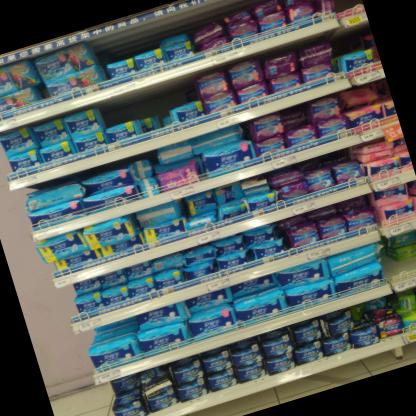empty_space: (327, 0, 365, 22), (389, 254, 416, 283)
